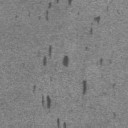red iron: (45, 0, 72, 20), (43, 45, 52, 66), (41, 96, 52, 108), (56, 118, 66, 128), (62, 56, 69, 67), (82, 80, 87, 94), (94, 16, 100, 23), (99, 59, 104, 66), (32, 84, 36, 92), (90, 29, 93, 36)
